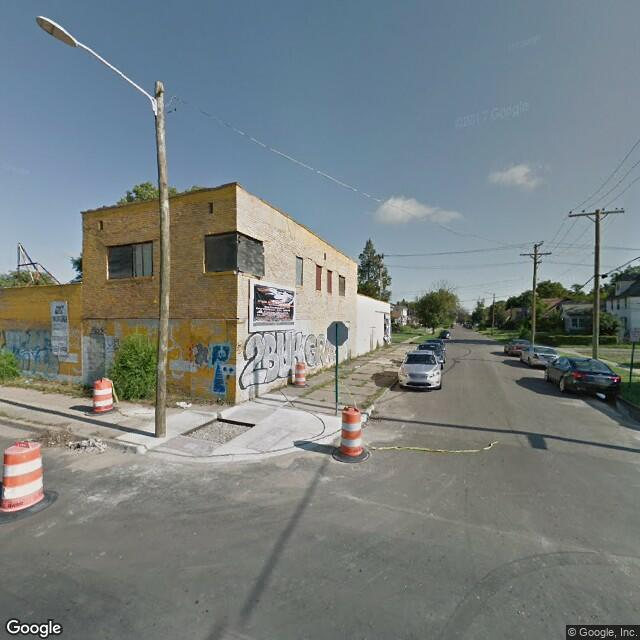litter: (171, 397, 195, 411)
